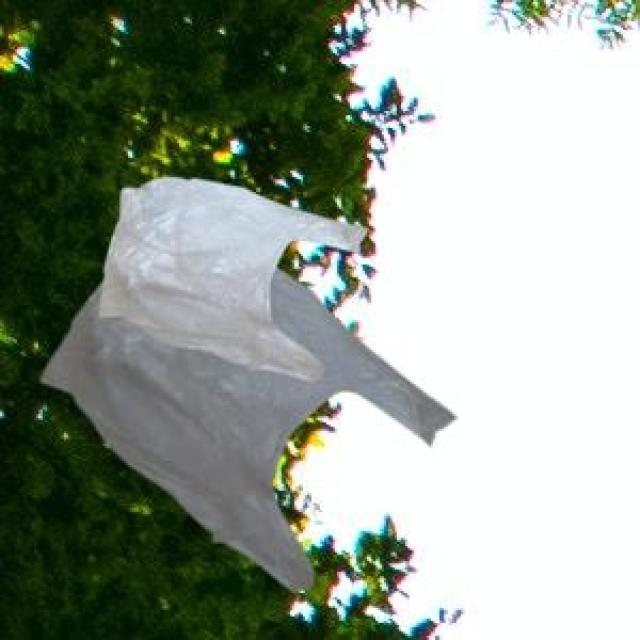plastic: (35, 161, 482, 635)
